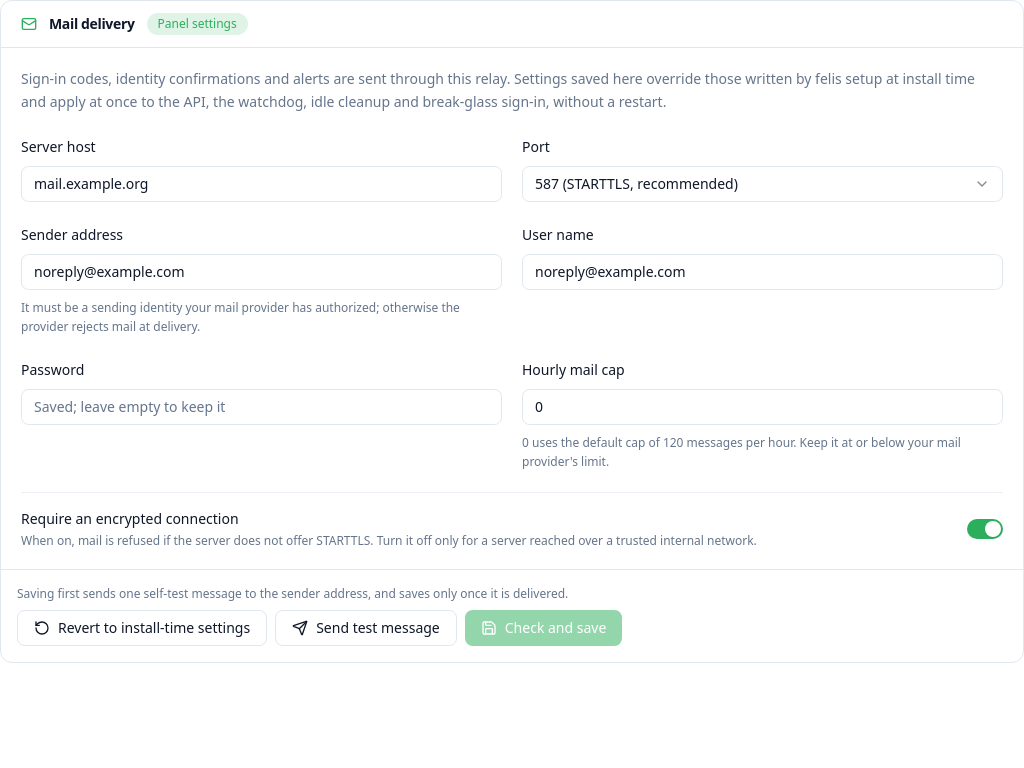
Test: mail settings › reverts to the install-time relay after confirming
Step 1. Click the button "Revert to install-time settings" → click(142, 628), box [17, 610, 267, 646]
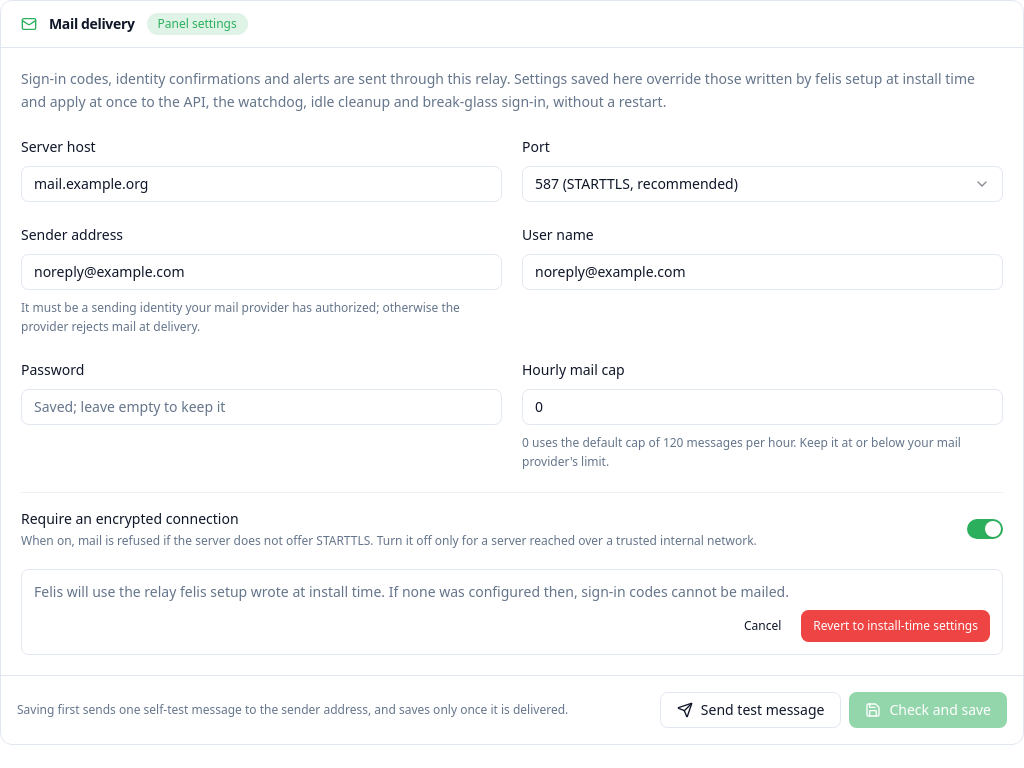
Expected: the text "Felis will use the relay felis setup wrote at install time" is shown, [34, 582, 789, 600]
Step 2. Click the button "Revert to install-time settings" → click(896, 626), box [801, 610, 990, 642]
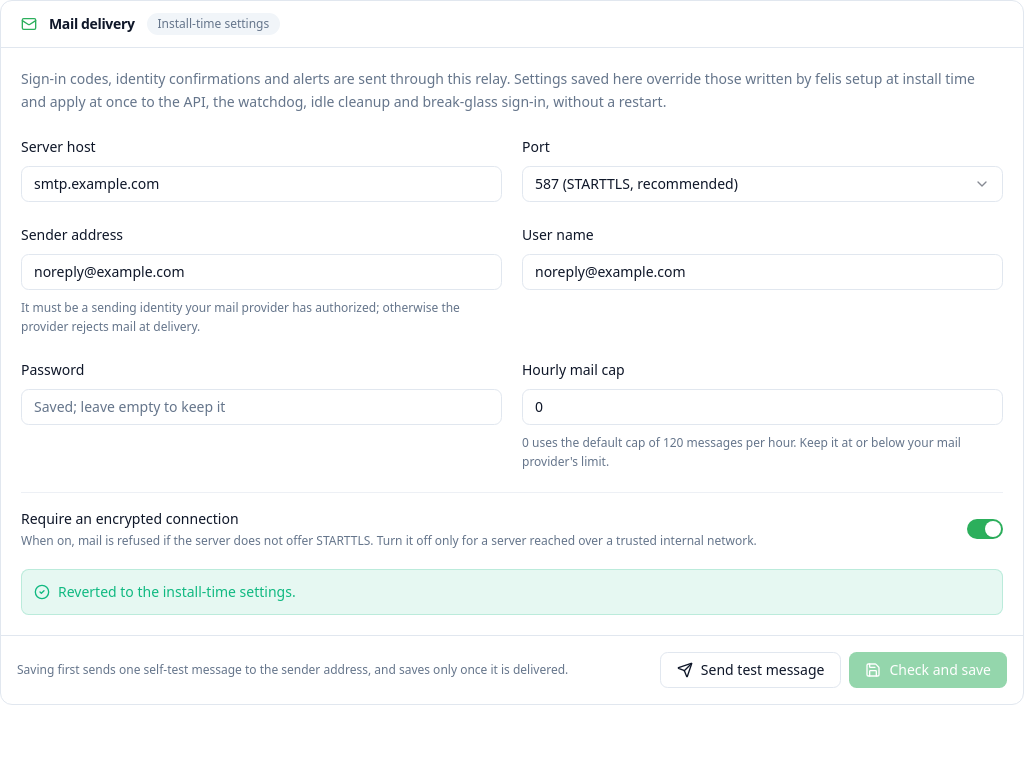
Expected: the text "Reverted to the install-time settings." is shown, [58, 582, 296, 602]
Expected: the text "Install-time settings" is shown, [146, 13, 280, 35]
